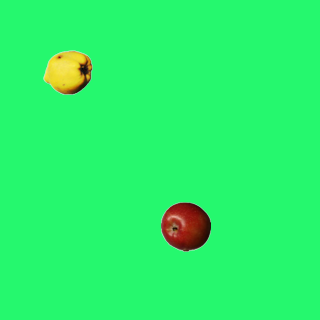Apple Braeburn: (160, 201, 210, 251)
Quince: (42, 47, 92, 97)
